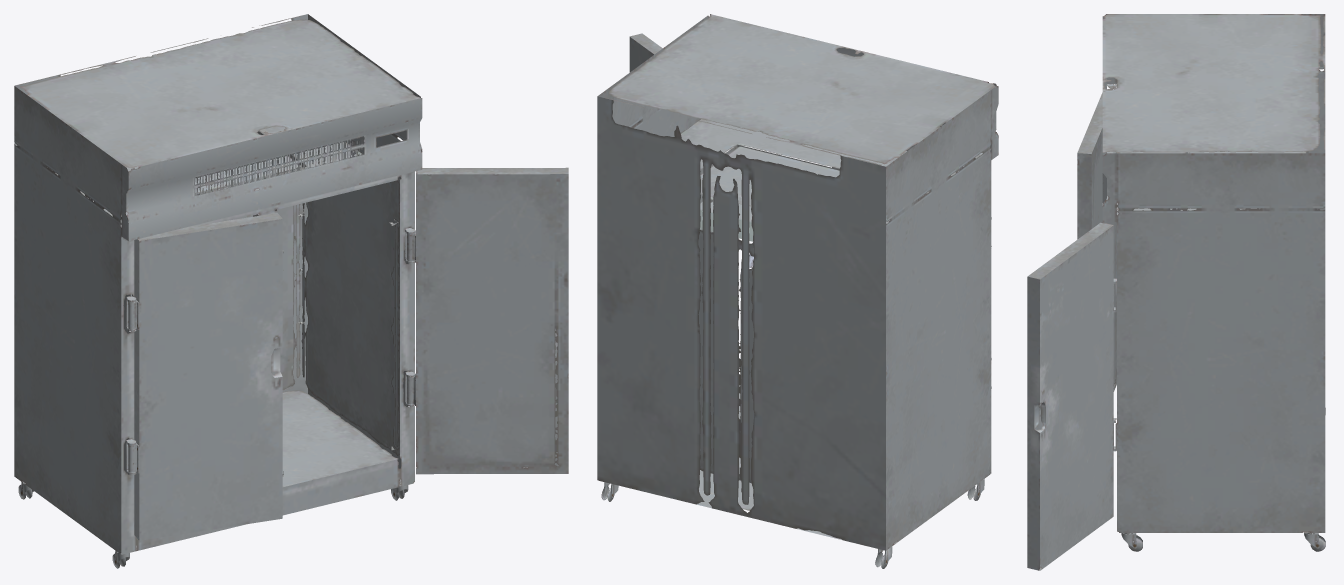
Rendered from sm23_035_largefreezer01b.fbx.
The picture shows the model from 3 angles, left to right: view 1: azimuth 30°, elevation 25°; view 2: azimuth 150°, elevation 25°; view 3: azimuth 270°, elevation 25°; orthographic projection. The views are drawn at different scales.
Visible parts, largest first — view 1: LOD_1_Group_0_Sub_1__sm23_035_LargeFreezer01B_A_Mat__Env_Def; view 2: LOD_1_Group_0_Sub_1__sm23_035_LargeFreezer01B_A_Mat__Env_Def; view 3: LOD_1_Group_0_Sub_1__sm23_035_LargeFreezer01B_A_Mat__Env_Def.
Boxes of the visible parts, x1=… form: LOD_1_Group_0_Sub_1__sm23_035_LargeFreezer01B_A_Mat__Env_Def: x1=14, y1=14, x2=568, y2=568; LOD_1_Group_0_Sub_1__sm23_035_LargeFreezer01B_A_Mat__Env_Def: x1=597, y1=14, x2=998, y2=568; LOD_1_Group_0_Sub_1__sm23_035_LargeFreezer01B_A_Mat__Env_Def: x1=1027, y1=14, x2=1325, y2=570.
Size of the model in its own units: 2.79 by 2.72 by 1.84.
